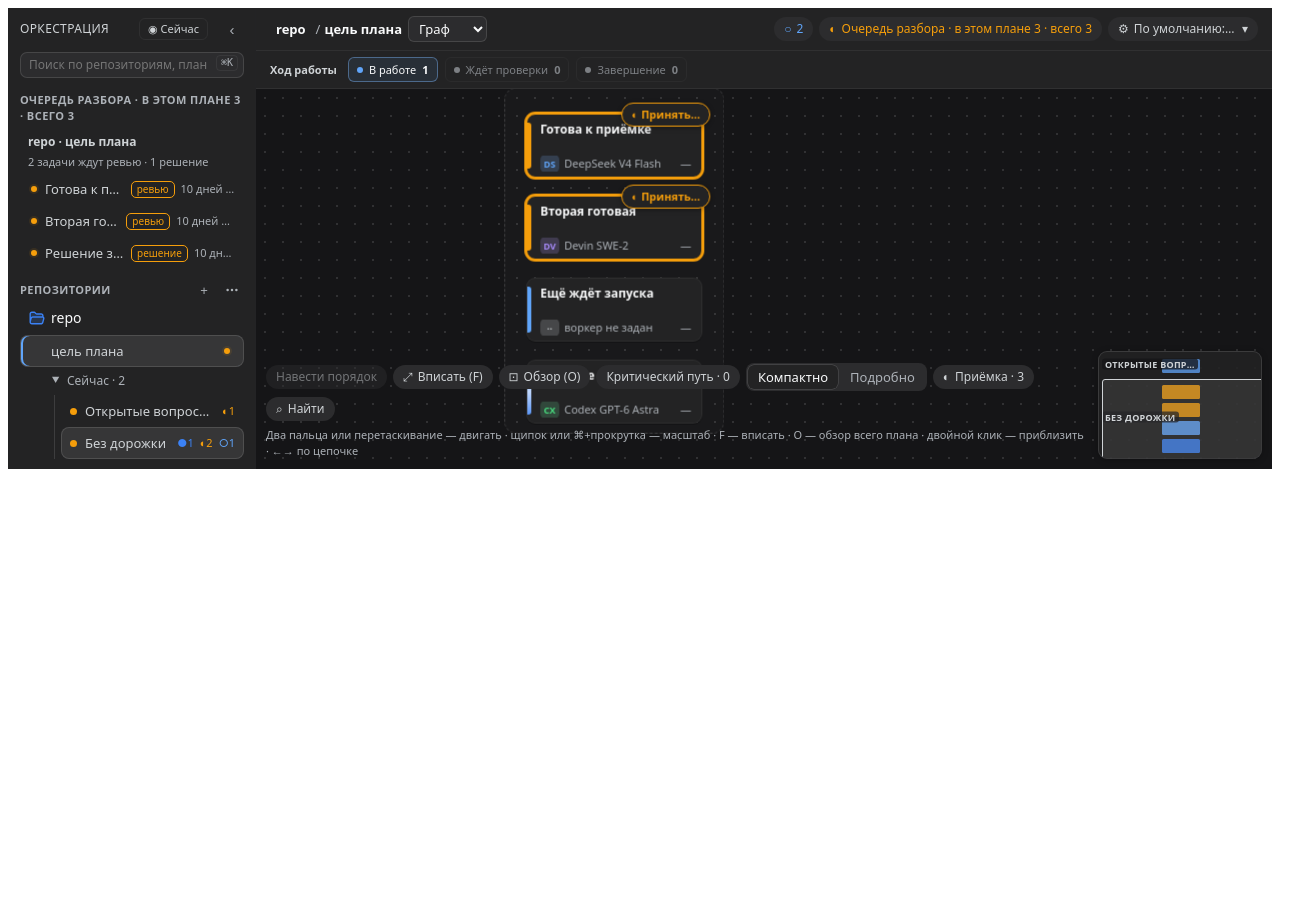
Test: Escape folds the queue
Click the button "◐ Очередь разбора · в этом плане 3 · всего 3" at (961, 29), box [819,17,1102,41]
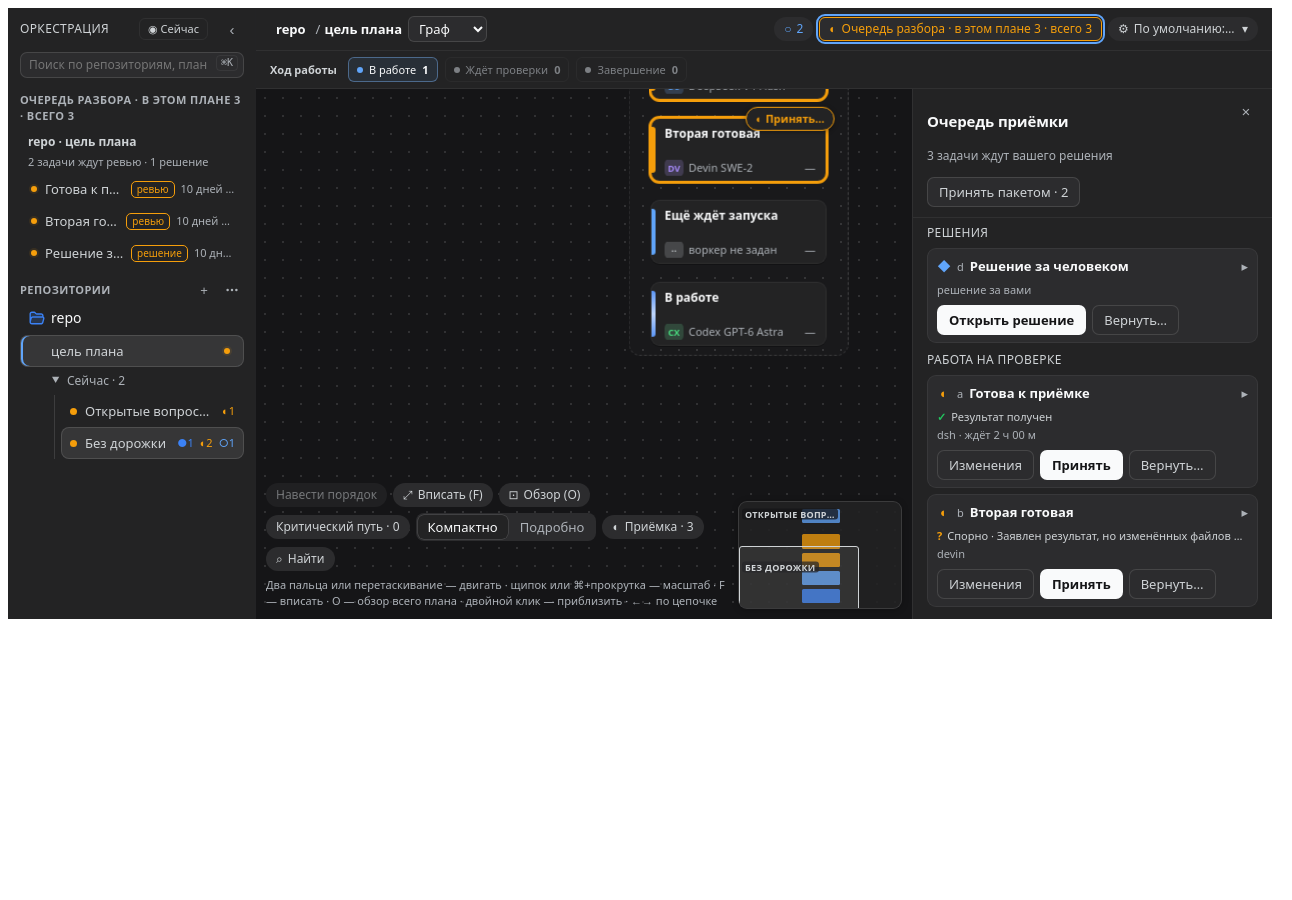
Press Escape
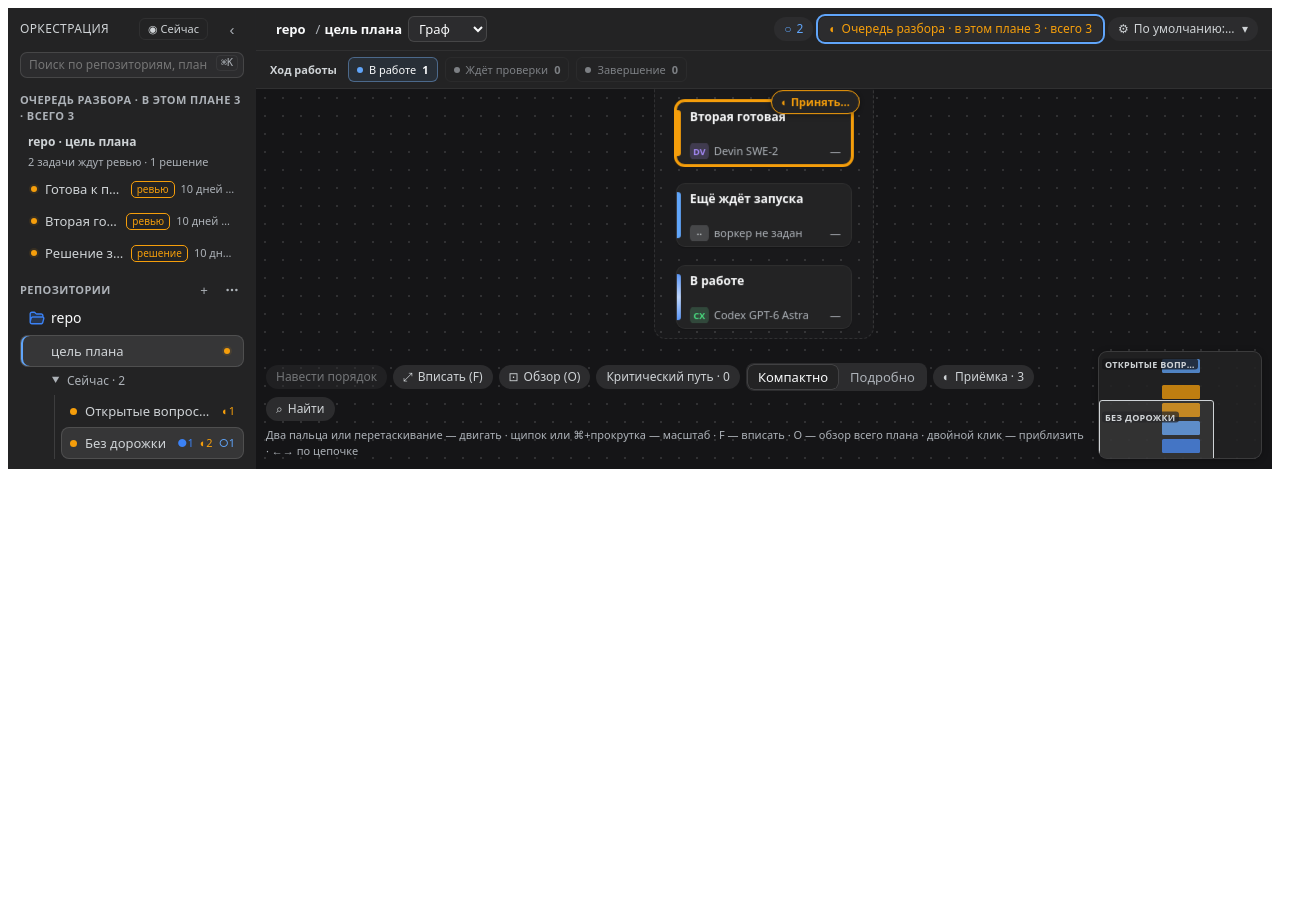
Now the heading "Очередь приёмки" is gone
